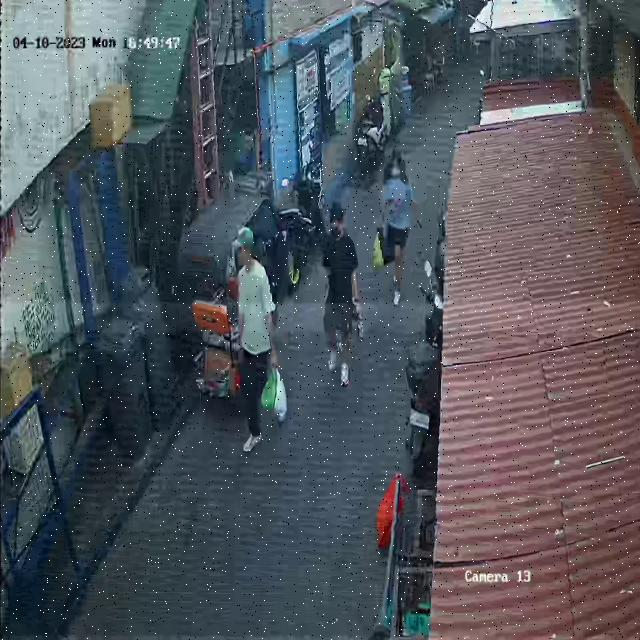human: (234, 227, 288, 453), (322, 202, 363, 388), (372, 152, 421, 306)
trash: (258, 360, 290, 429), (370, 226, 390, 277), (348, 295, 363, 344)
